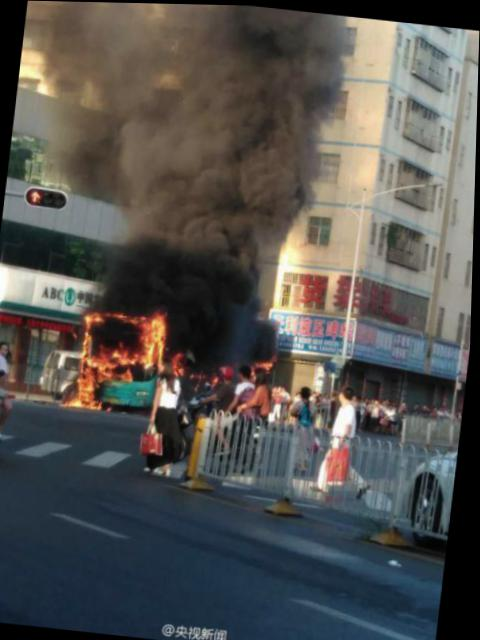fire: (74, 320, 104, 407), (137, 312, 172, 369), (88, 344, 138, 370), (87, 307, 148, 324)
